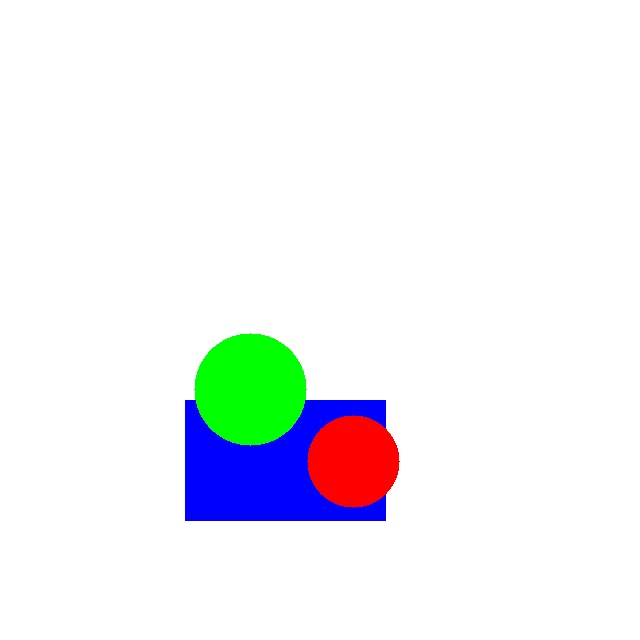cartao: (185, 400, 385, 520)
rosca_externa: (194, 333, 306, 445)
rosca_interna: (307, 415, 399, 507)
